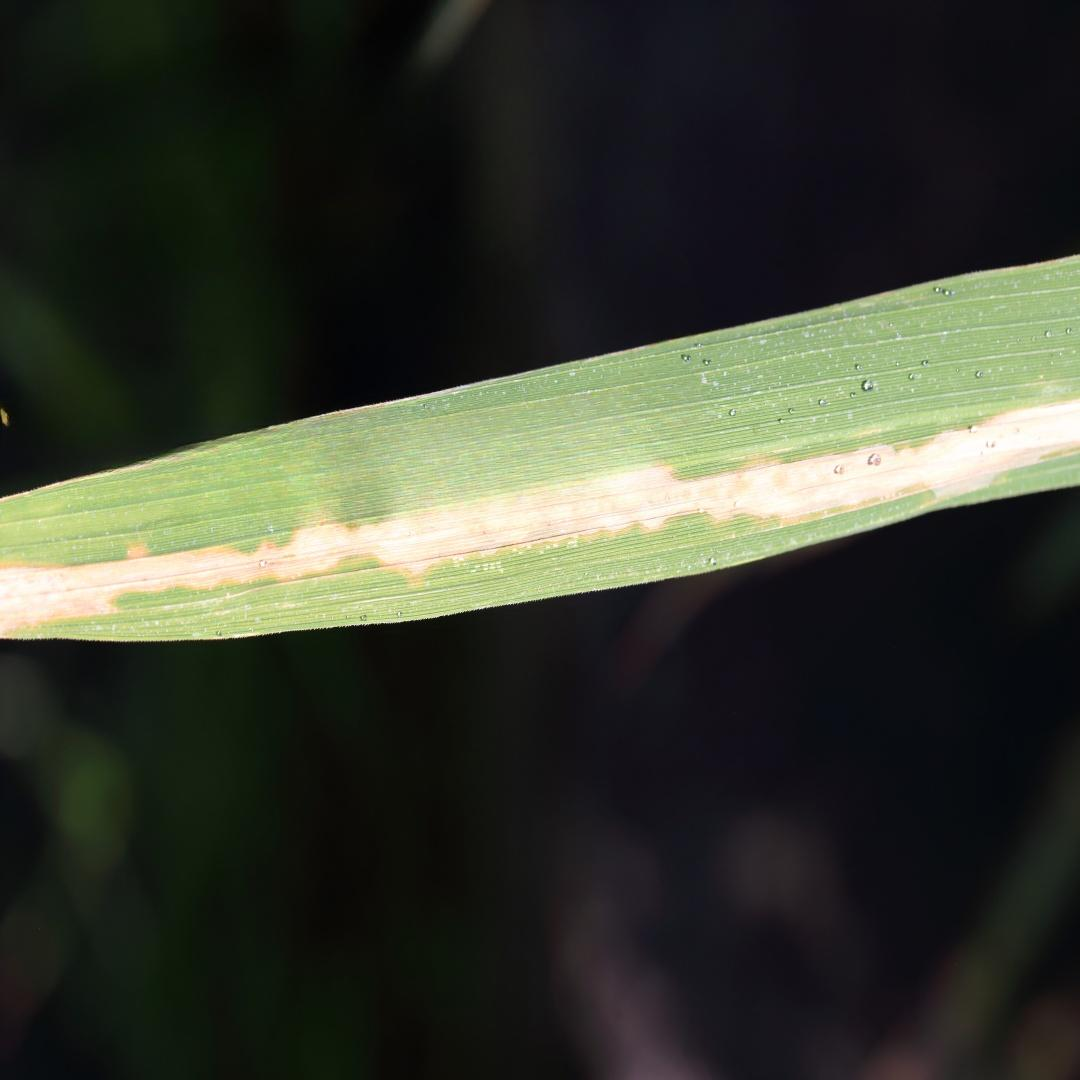BLB: (1, 398, 1079, 636)
LEAF: (1, 256, 1079, 639)
